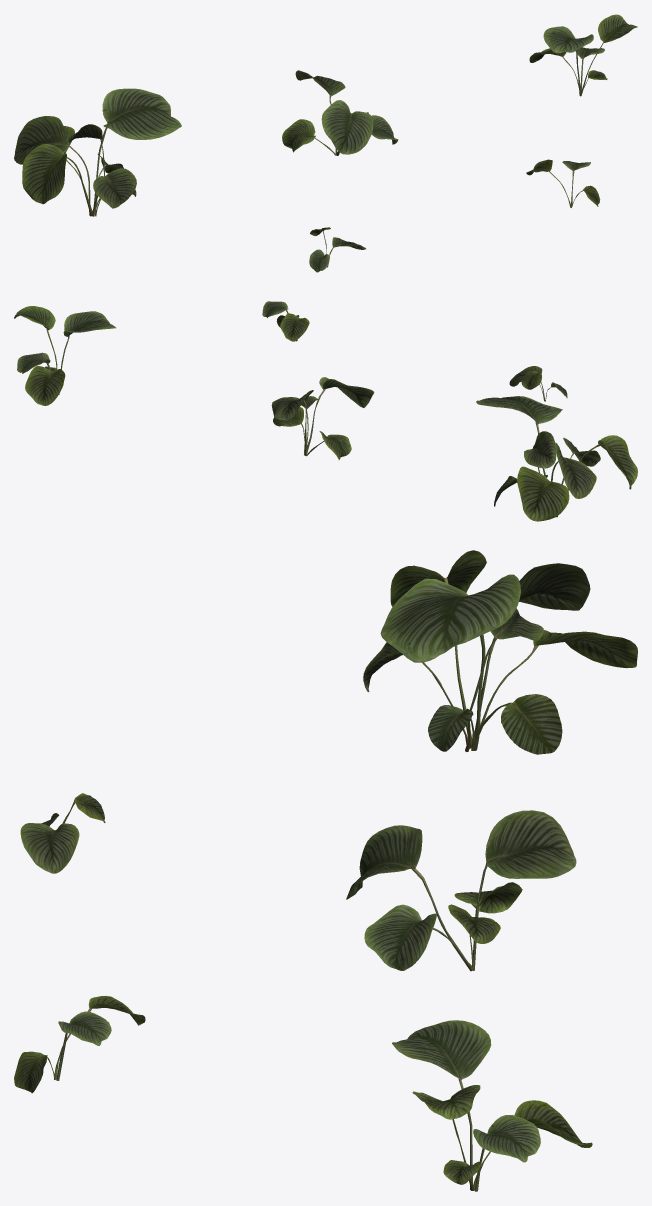
Rendered from calathea.glb.
The picture shows the model from 3 angles, top to bottom: view 1: azimuth 30°, elevation 25°; view 2: azimuth 150°, elevation 25°; view 3: azimuth 270°, elevation 25°; orthographic projection. The views are drawn at different scales.
Visible parts, largest first — view 1: calathea_orbifolia_01_a; view 2: calathea_orbifolia_01_a; view 3: calathea_orbifolia_01_a.
Part boxes in pixels (<box>): calathea_orbifolia_01_a: <box>14,14,637,272</box>; calathea_orbifolia_01_a: <box>14,301,637,521</box>; calathea_orbifolia_01_a: <box>14,550,637,1191</box>.
Bounding box in the file's own units: 2.49 × 0.4243 × 1.19.
1 material, 1 textured.
